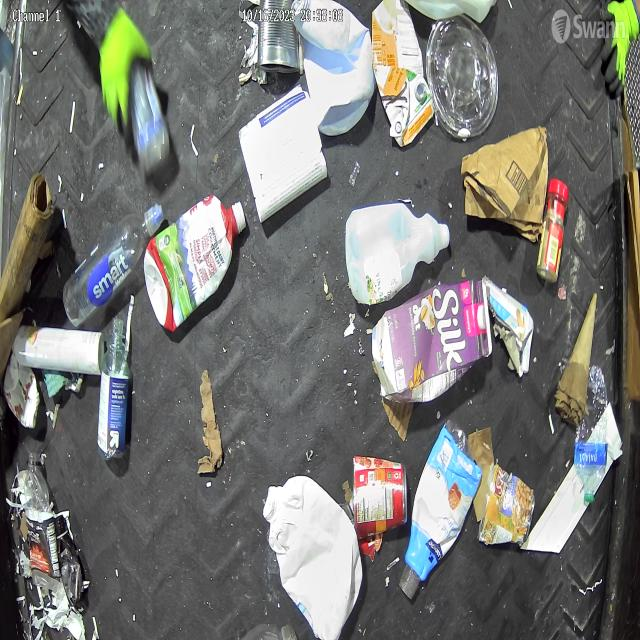can: (352, 446, 411, 538), (248, 0, 304, 87)
milk_jug: (262, 468, 366, 640), (297, 0, 378, 136)
plastic_bottle: (61, 192, 169, 332), (93, 303, 134, 472), (128, 61, 172, 179)
